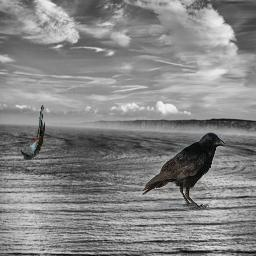Crow: (141, 133, 226, 210)
Cuckoo: (21, 106, 46, 161)
